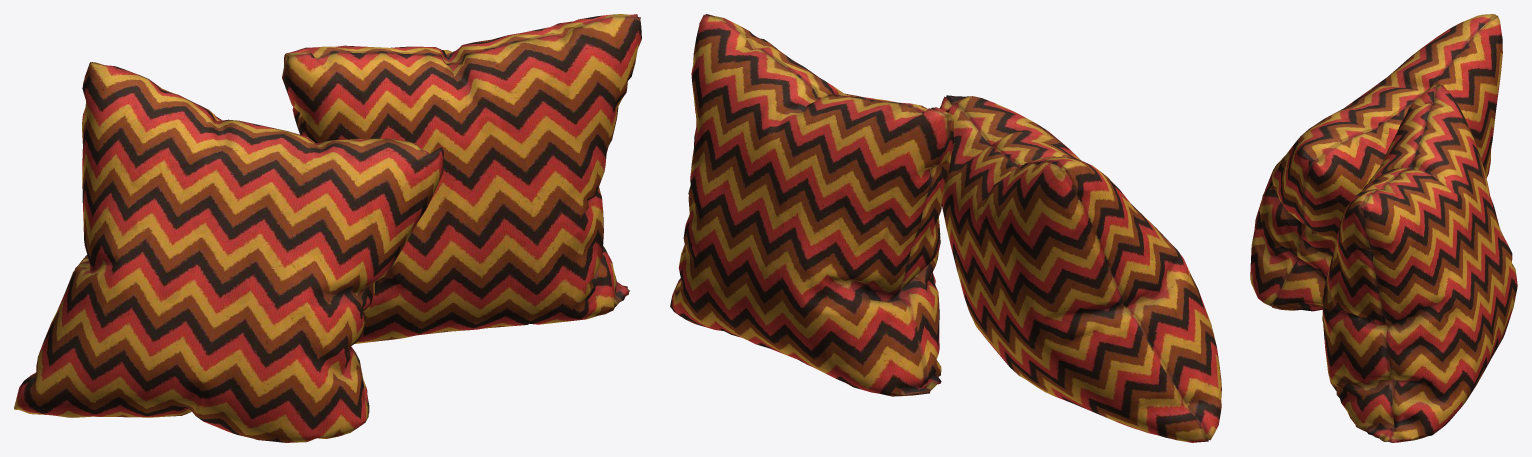
File: pillows.glb
The picture shows the model from 3 angles, left to right: view 1: azimuth 30°, elevation 25°; view 2: azimuth 150°, elevation 25°; view 3: azimuth 270°, elevation 25°; orthographic projection. The views are drawn at different scales.
Parts seen in each view (by area): view 1: throw_pillows_01_pillow01, throw_pillows_01_pillow02; view 2: throw_pillows_01_pillow02, throw_pillows_01_pillow01; view 3: throw_pillows_01_pillow02, throw_pillows_01_pillow01.
Part boxes in pixels (x1,y1,x2,y2): throw_pillows_01_pillow01: [14, 62, 443, 442]; throw_pillows_01_pillow02: [282, 14, 641, 343]; throw_pillows_01_pillow02: [670, 14, 953, 396]; throw_pillows_01_pillow01: [939, 95, 1221, 442]; throw_pillows_01_pillow02: [1322, 84, 1517, 442]; throw_pillows_01_pillow01: [1250, 14, 1502, 311].
Size of the model in its own units: 0.9401 by 0.4502 by 0.4519.
1 material, 1 textured.
